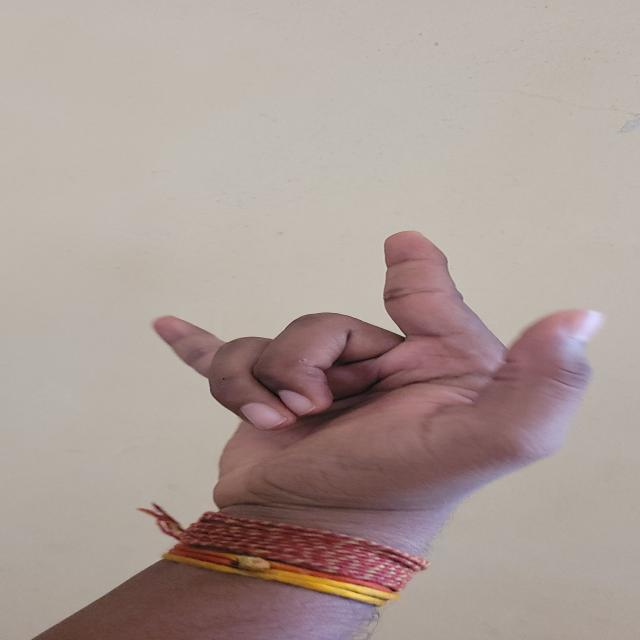i like you: (90, 225, 640, 567)
